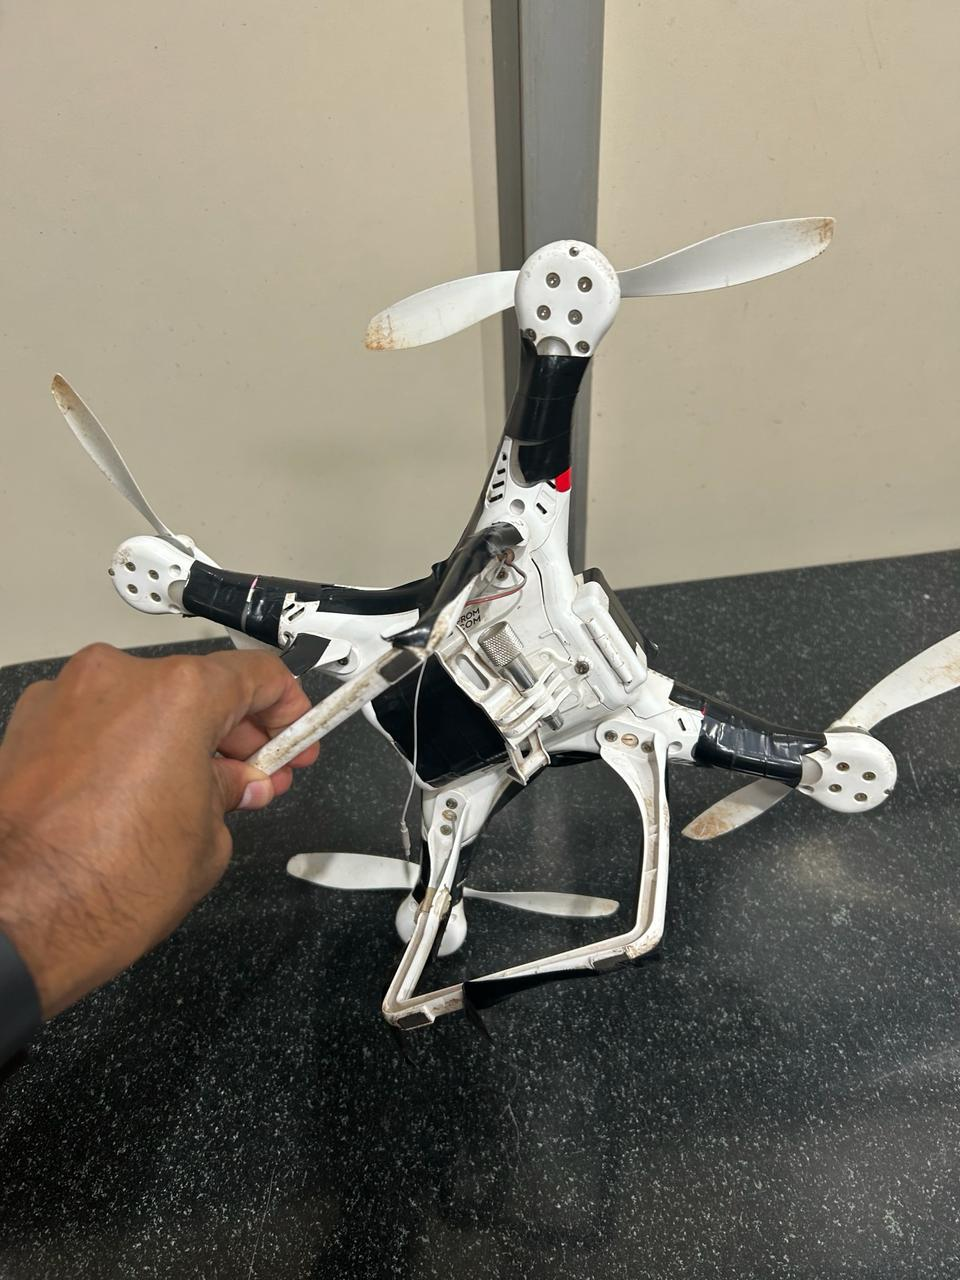drone: (61, 170, 960, 1055)
